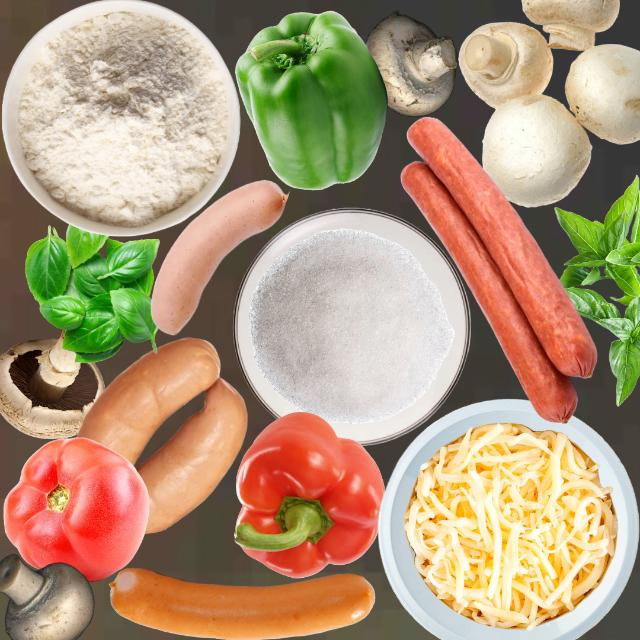Flour: (17, 9, 230, 226)
Sugar: (248, 227, 454, 424)
